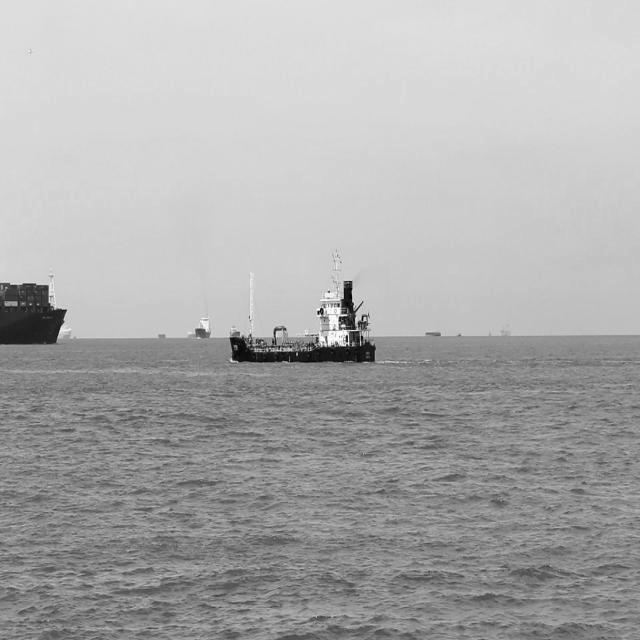ship: (226, 242, 381, 368), (0, 259, 70, 350), (197, 308, 216, 342), (424, 323, 442, 341), (500, 319, 515, 339), (156, 326, 170, 344), (186, 327, 197, 344)
